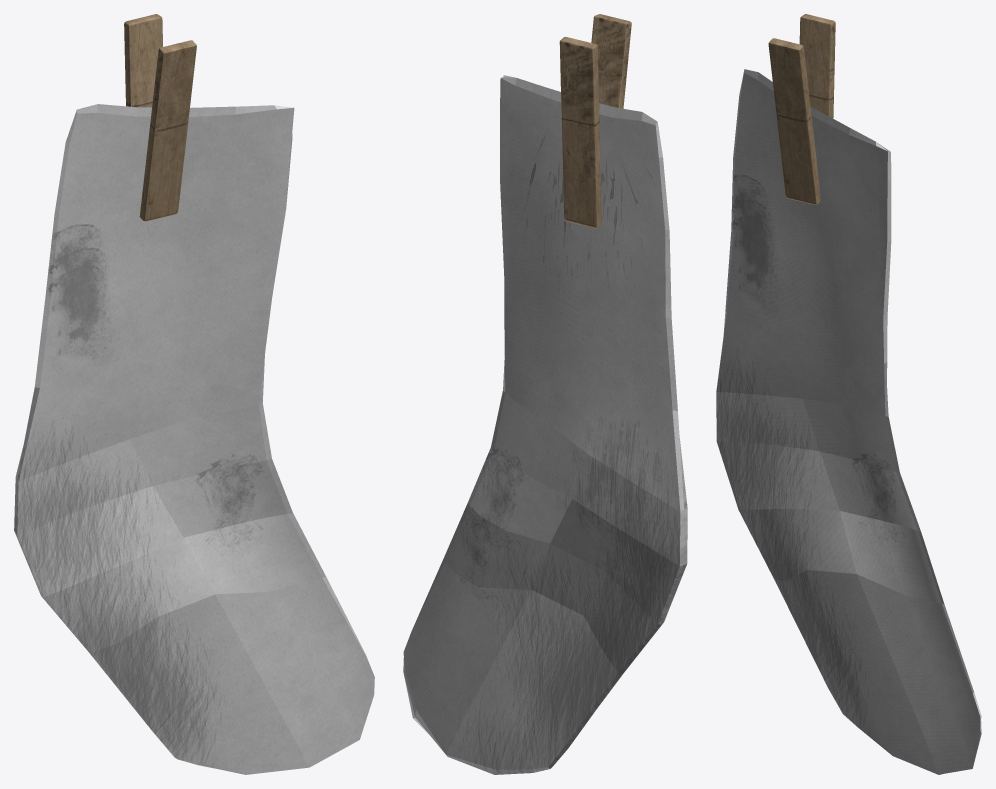
File: chaussette-perdue-en-apesanteur.glb
3 renders of one model, left to right at view 1: azimuth 30°, elevation 25°; view 2: azimuth 150°, elevation 25°; view 3: azimuth 330°, elevation 25°, orthographic. The views are drawn at different scales.
Parts seen in each view (by area): view 1: polySurface42; view 2: polySurface42; view 3: polySurface42.
Part boxes in pixels (box(x1,y1,x2,y2)): polySurface42: box(14, 14, 374, 774); polySurface42: box(403, 14, 687, 774); polySurface42: box(716, 14, 981, 774).
Size of the model in its own units: 41.66 by 95.48 by 11.41.
Materials: 2 (2 with a texture image).
